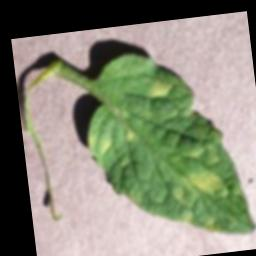Leaf_Mold: (187, 166, 227, 200), (144, 77, 174, 101)
